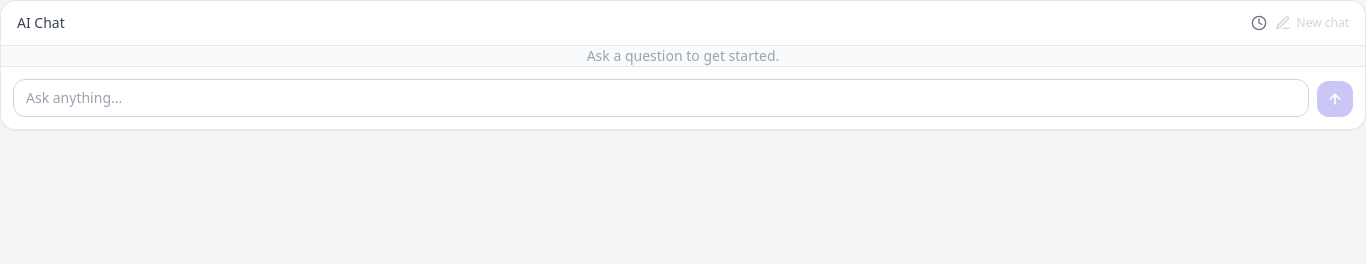
RagChat — history panel › switches to history view when clock icon is clicked
Click the button named "conversation history" at (1258, 23), box [1250,15,1266,31]
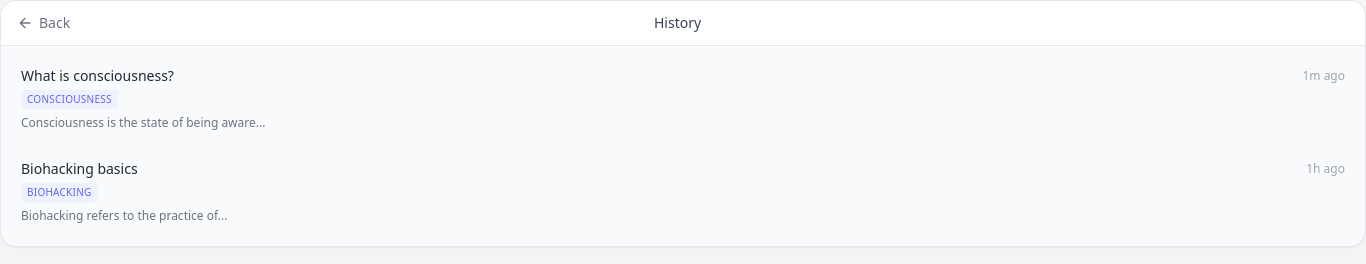
Now the text "History" is shown, box [654,13,701,33]
Now the text "What is consciousness?" is shown, box [21,66,174,85]
